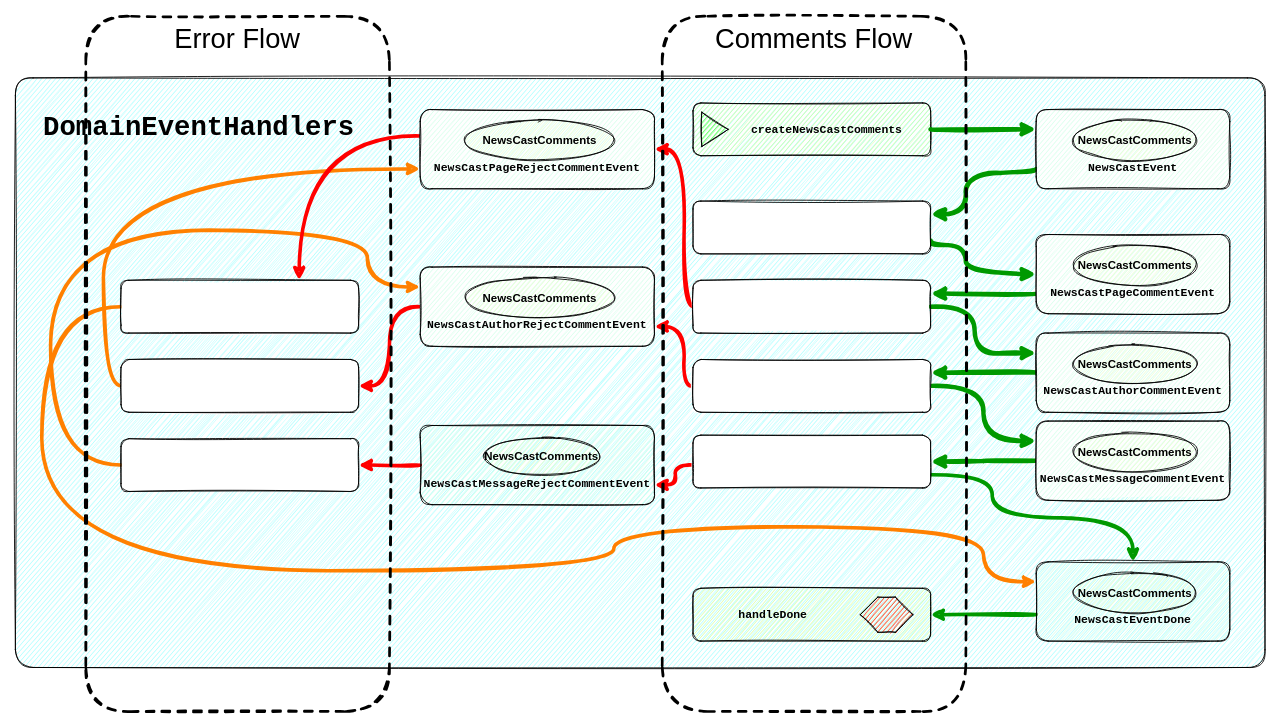
Image size: 1280x728. Some labels were removed from this diagram. Each missing label, with the centre of its shape:
handleCreateAuthorCommentEvent: pixel 811 385
handleCreateMessageCommentEvent: pixel 811 461
handleCreateNewsCastCommentEvent: pixel 811 227
handleCreatePageCommentEvent: pixel 811 306
handleRejectAuthorCommentEvent: pixel 239 385
handleRejectMessageCommentEvent: pixel 239 464
handleRejectPageCommentEvent: pixel 239 306
Stop: pixel 886 614
